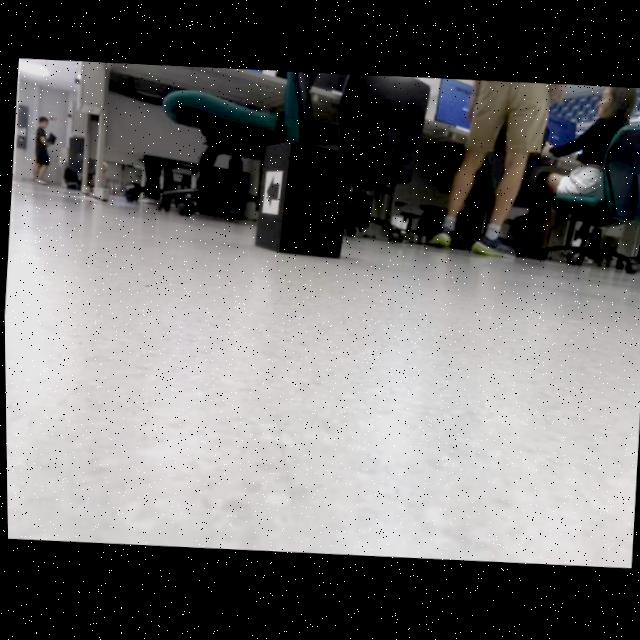LEFT: (265, 177, 279, 209)
